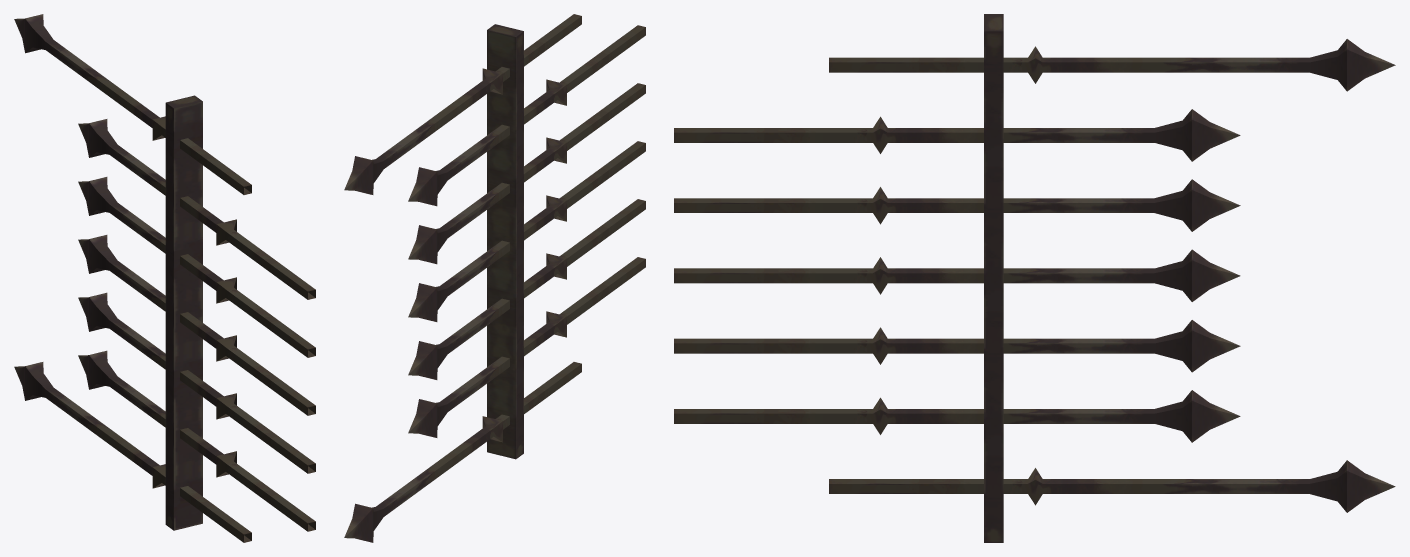
Rendered from SpikeDoor.fbx.
3 renders of one model, left to right at view 1: azimuth 30°, elevation 25°; view 2: azimuth 150°, elevation 25°; view 3: azimuth 270°, elevation 25°, orthographic. The views are drawn at different scales.
Parts seen in each view (by area): view 1: fenceBar, spikeFenceCentral (1), spikeFenceCentral, spikeFenceCentral (2), spikeFenceCentral (4), spikeFenceCentral (5), spikeFenceCentral (3), spikeFenceCentral (6); view 2: fenceBar, spikeFenceCentral, spikeFenceCentral (5), spikeFenceCentral (1), spikeFenceCentral (4), spikeFenceCentral (2), spikeFenceCentral (3), spikeFenceCentral (6); view 3: fenceBar, spikeFenceCentral (1), spikeFenceCentral (6), spikeFenceCentral, spikeFenceCentral (5), spikeFenceCentral (3), spikeFenceCentral (2), spikeFenceCentral (4).
Boxes of the visible parts, x1=… form: fenceBar: x1=165, y1=95, x2=202, y2=530; spikeFenceCentral (1): x1=78, y1=292, x2=315, y2=473; spikeFenceCentral: x1=78, y1=235, x2=315, y2=415; spikeFenceCentral (2): x1=78, y1=350, x2=315, y2=531; spikeFenceCentral (4): x1=78, y1=177, x2=315, y2=357; spikeFenceCentral (5): x1=78, y1=119, x2=315, y2=299; spikeFenceCentral (3): x1=14, y1=362, x2=251, y2=542; spikeFenceCentral (6): x1=14, y1=14, x2=251, y2=194; fenceBar: x1=487, y1=24, x2=523, y2=459; spikeFenceCentral: x1=408, y1=141, x2=645, y2=321; spikeFenceCentral (5): x1=408, y1=25, x2=645, y2=206; spikeFenceCentral (1): x1=408, y1=199, x2=645, y2=379; spikeFenceCentral (4): x1=408, y1=83, x2=645, y2=264; spikeFenceCentral (2): x1=408, y1=257, x2=645, y2=437; spikeFenceCentral (3): x1=344, y1=362, x2=581, y2=542; spikeFenceCentral (6): x1=344, y1=14, x2=581, y2=194; fenceBar: x1=984, y1=14, x2=1003, y2=542; spikeFenceCentral (1): x1=674, y1=320, x2=1240, y2=372; spikeFenceCentral (6): x1=829, y1=39, x2=1395, y2=91; spikeFenceCentral: x1=674, y1=249, x2=1240, y2=301; spikeFenceCentral (5): x1=674, y1=109, x2=1240, y2=161; spikeFenceCentral (3): x1=829, y1=460, x2=1395, y2=512; spikeFenceCentral (2): x1=674, y1=390, x2=1240, y2=442; spikeFenceCentral (4): x1=674, y1=179, x2=1240, y2=231.
Bounding box in the file's own units: 52.61 × 729 × 931.
Materials: 1 (1 with a texture image).
